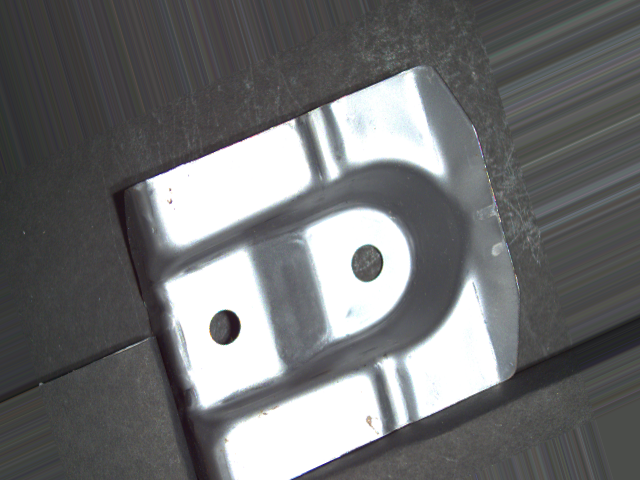defect: (349, 241, 386, 286)
